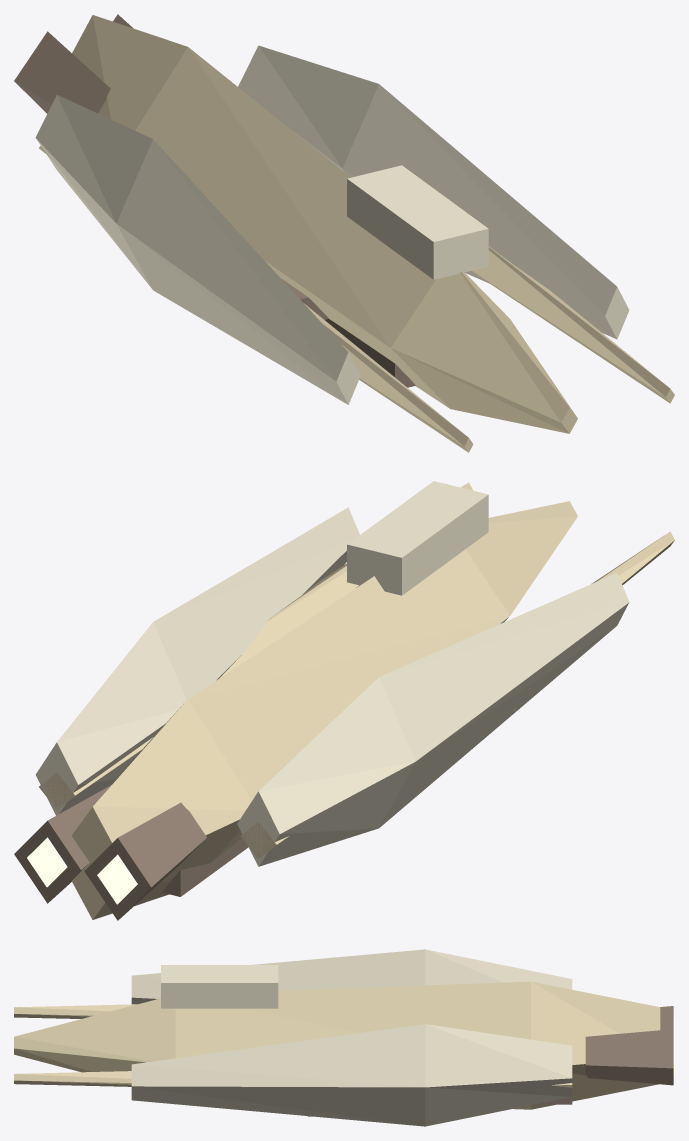
The picture shows the model from 3 angles, top to bottom: view 1: azimuth 30°, elevation 25°; view 2: azimuth 150°, elevation 25°; view 3: azimuth 270°, elevation 25°; orthographic projection. The views are drawn at different scales.
Size of the model in its own units: 1.71 by 1.09 by 4.82.
